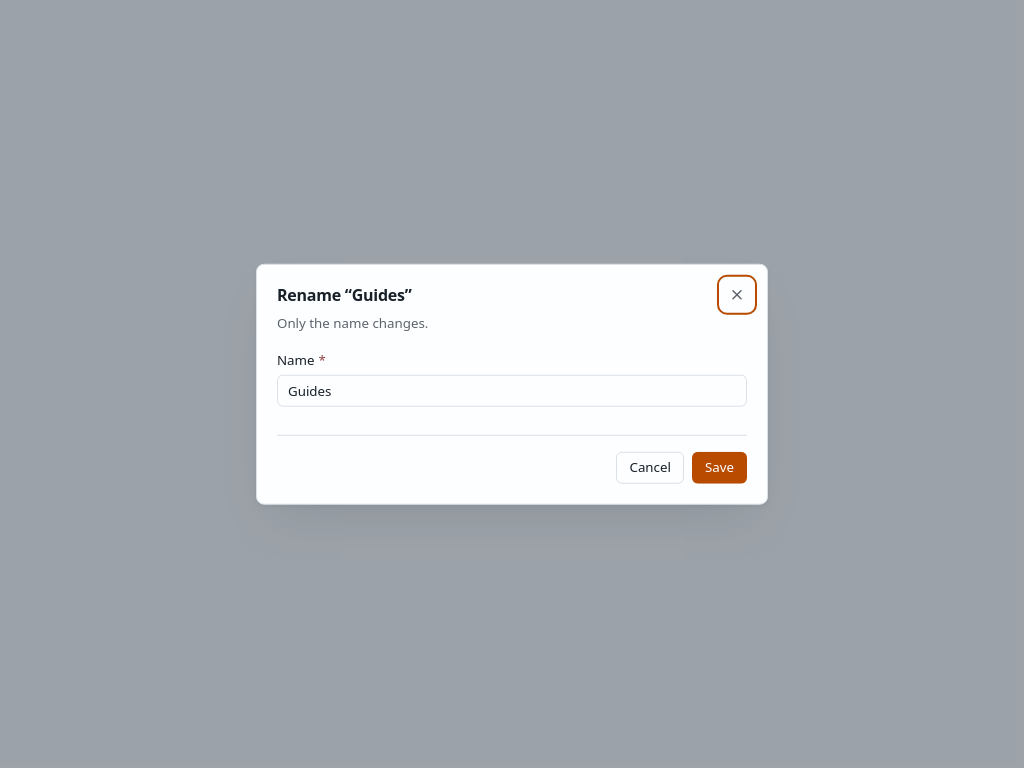
Test: RenameDialog › refuses an empty name at the control rather than at the server
Clear the field labelled "Name*": (512, 390) [277, 374, 747, 406]
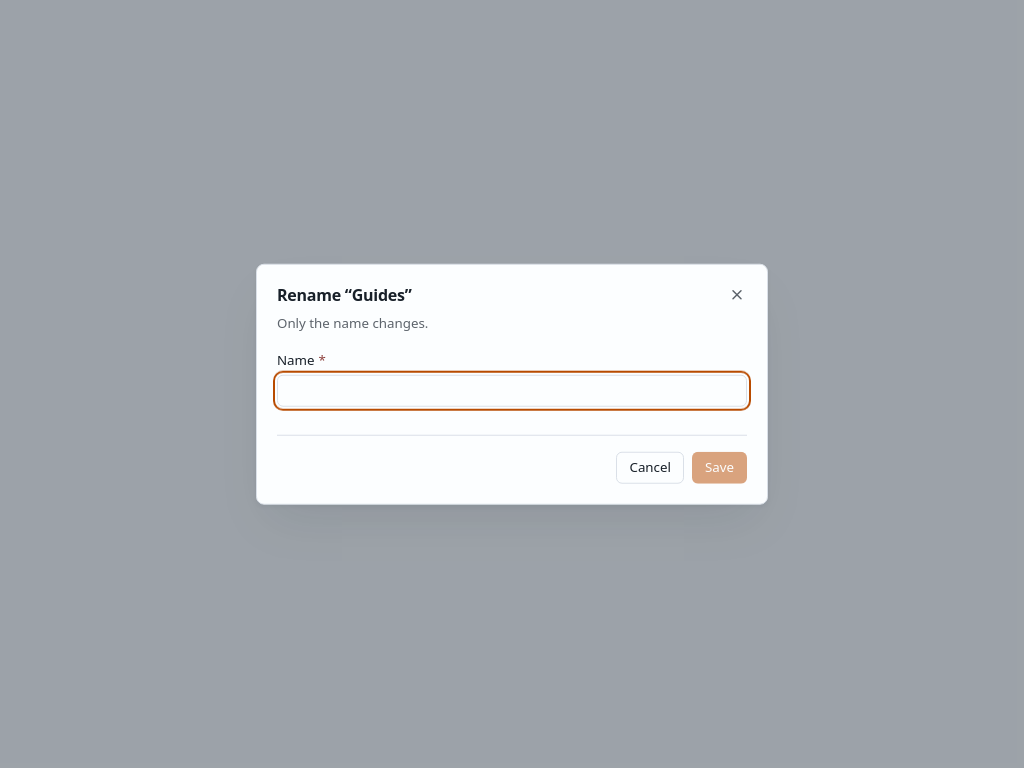
Expected: the button "Save" is disabled, [692, 451, 747, 483]
